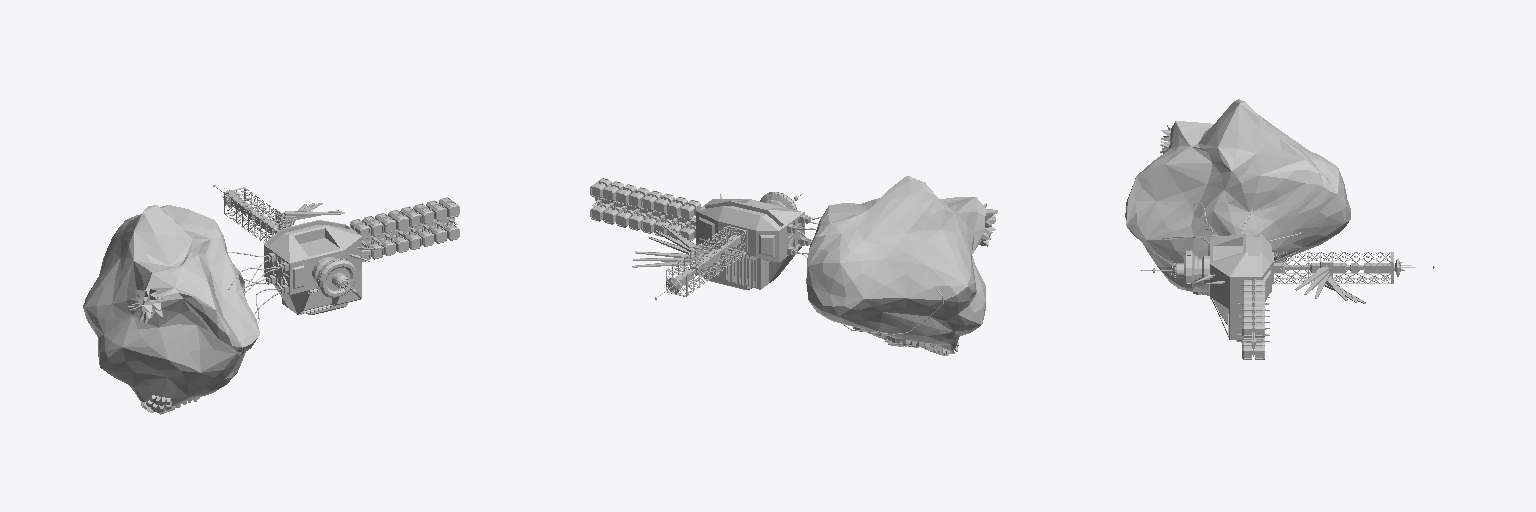
Rendered from Eezo.obj.
3 views of the same model, side by side, from view 1: azimuth 30°, elevation 25°; view 2: azimuth 150°, elevation 25°; view 3: azimuth 270°, elevation 25° (orthographic).
Visible parts, largest first — view 1: eezo; view 2: eezo; view 3: eezo.
Boxes of the visible parts, x1=… form: eezo: x1=83, y1=185, x2=459, y2=414; eezo: x1=590, y1=176, x2=997, y2=355; eezo: x1=1125, y1=99, x2=1434, y2=359.
Bounding box in the file's own units: 287 × 140 × 207.